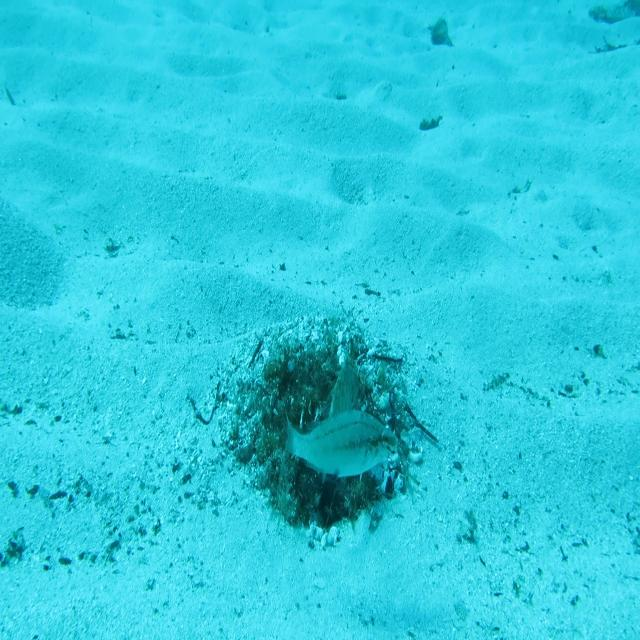MAN: (320, 351, 362, 489)
core_nest: (289, 363, 333, 401)
female: (282, 401, 402, 483)
nest: (212, 304, 426, 558)
vegetation: (428, 20, 454, 48), (418, 112, 444, 134)
